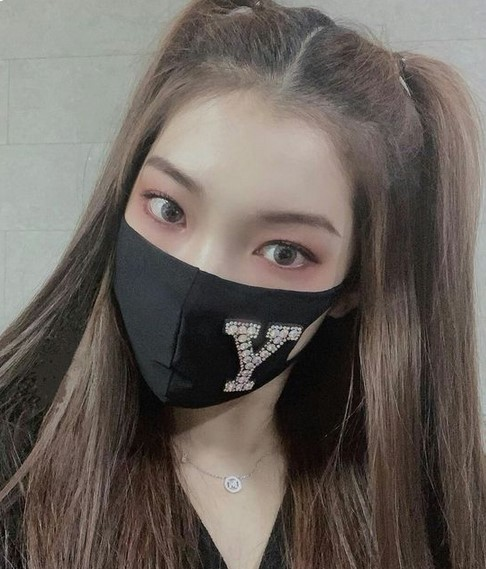face_with_mask: (88, 4, 433, 411)
